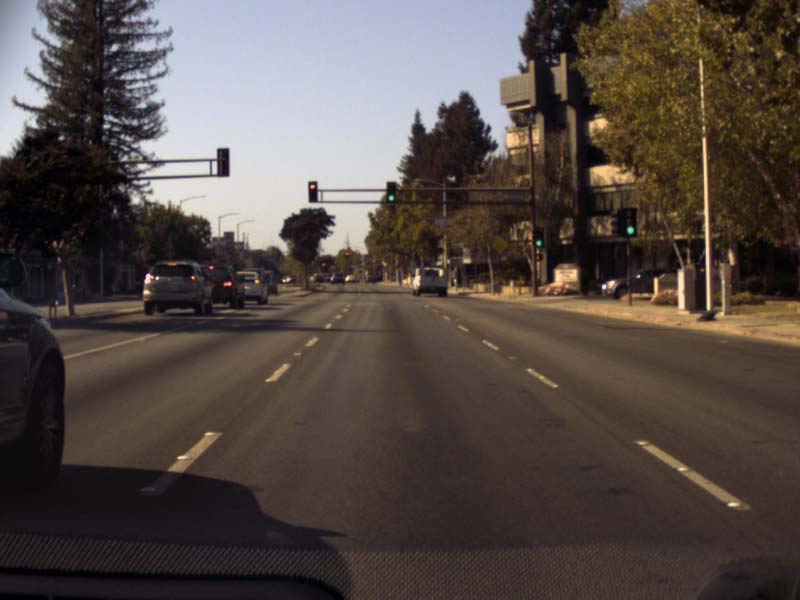Green: (623, 208, 636, 236), (386, 181, 395, 204), (533, 227, 543, 247)
Red: (307, 180, 317, 202)
